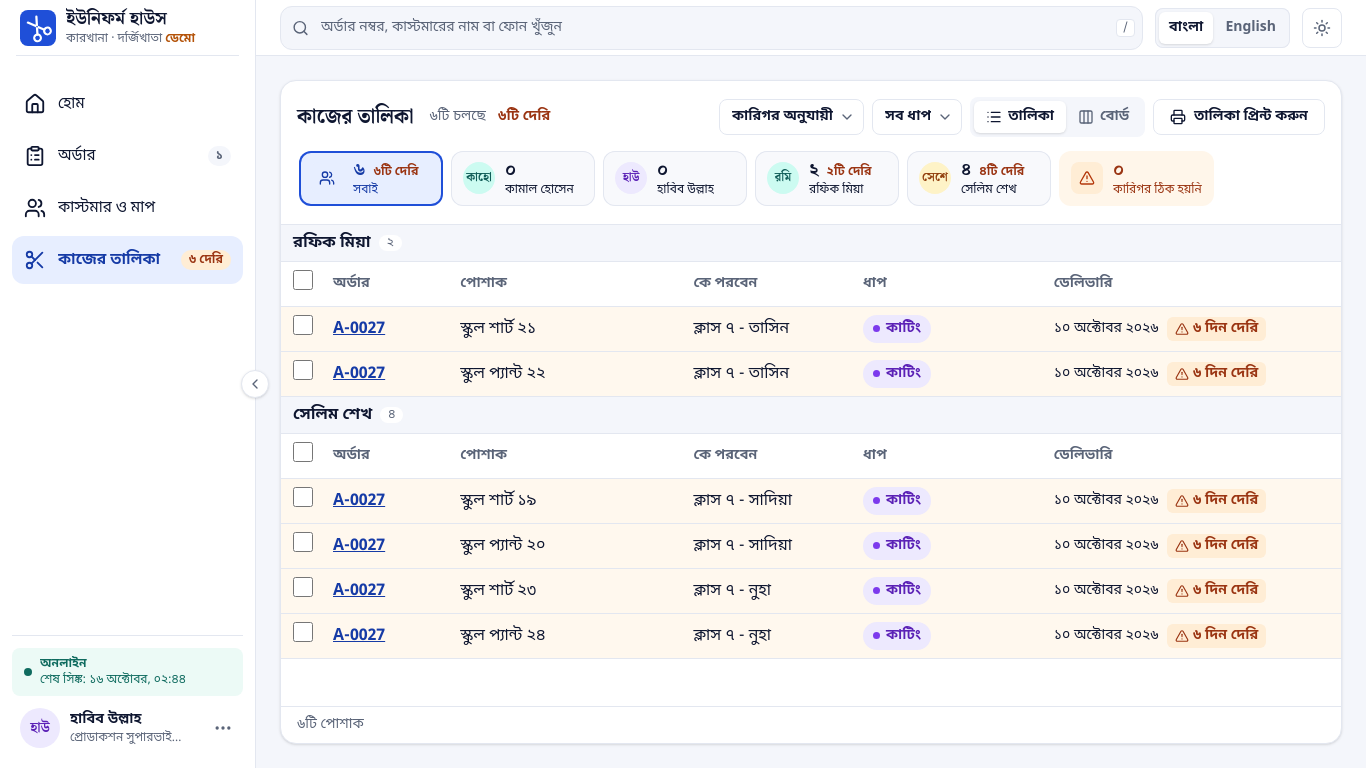
Test case: Work board › keeps the board in the address and leaves it out for the list
The image size is (1366, 768).
Click the tab "বোর্ড": (1104, 117) [1066, 101, 1141, 133]
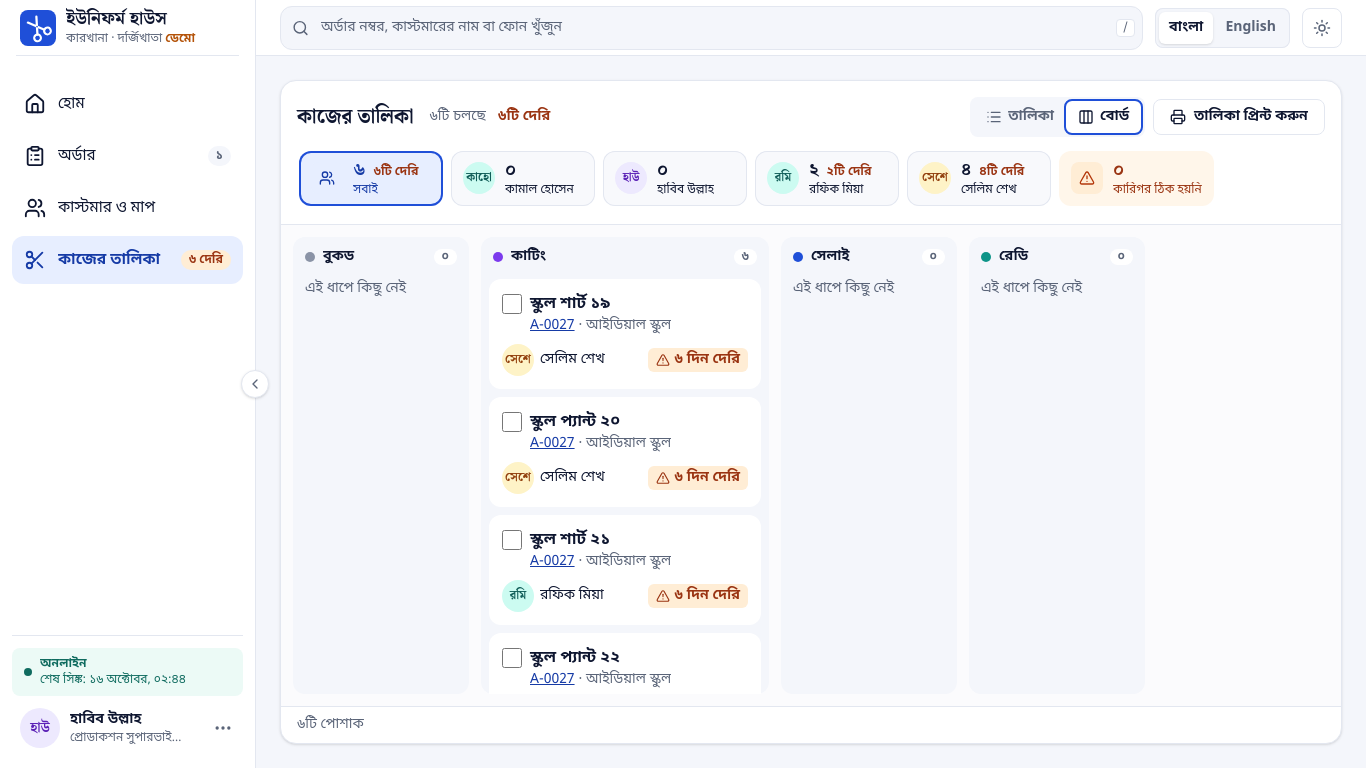
Click the tab "তালিকা": (1020, 117) [974, 101, 1066, 133]
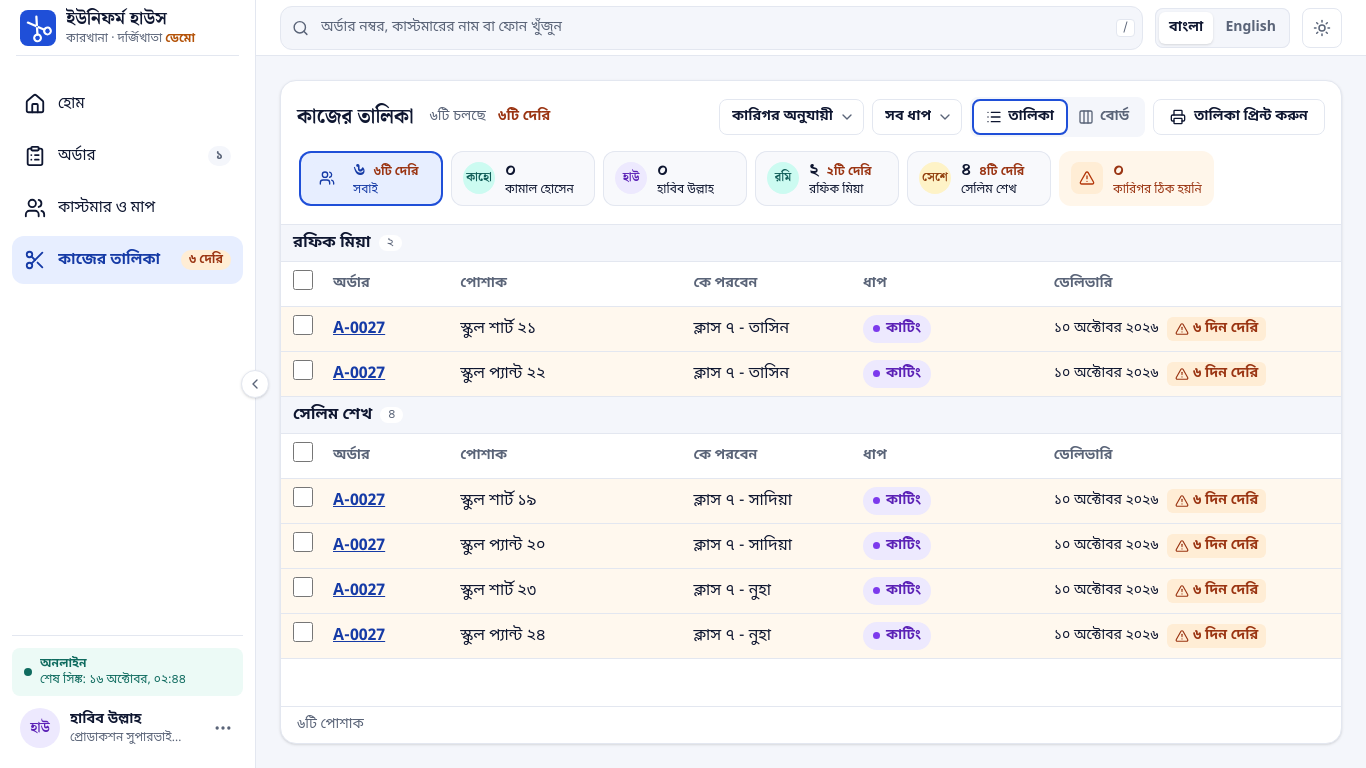
Now the element "রফিক মিয়া" is shown, box [281, 224, 1341, 396]
